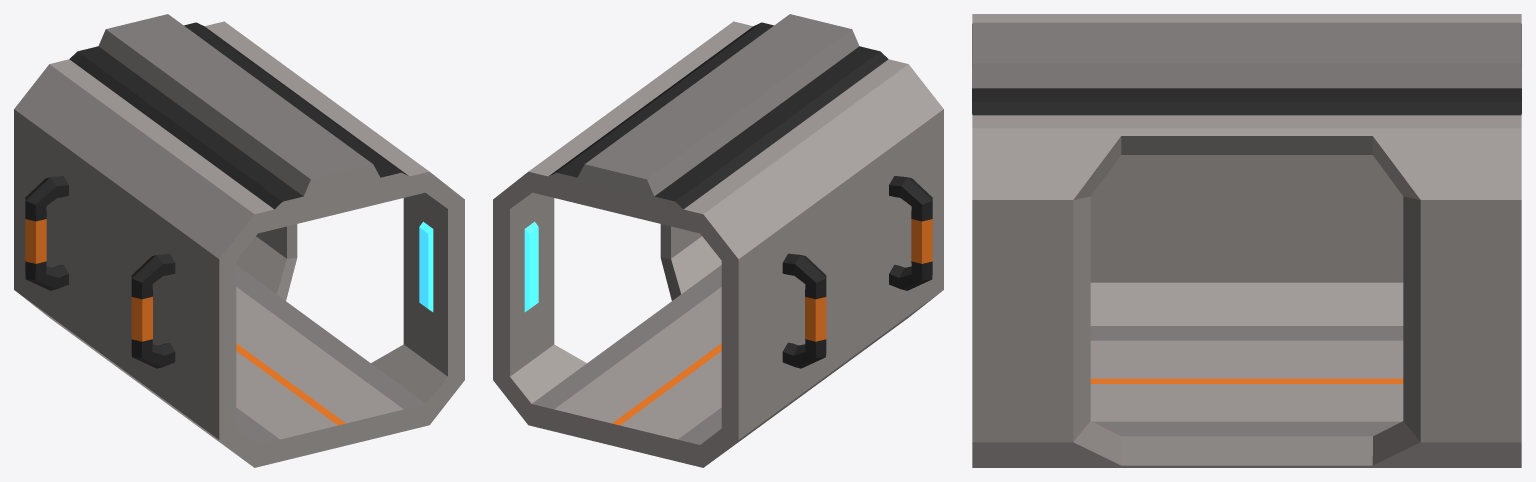
Rendered from scifi_scifi-planet-base-hall-one-middle.fbx.
3 renders of one model, left to right at view 1: azimuth 30°, elevation 25°; view 2: azimuth 150°, elevation 25°; view 3: azimuth 270°, elevation 25°, orthographic. The views are drawn at different scales.
Parts seen in each view (by area): view 1: scifi_scifi_planet_base_hall_one_middle; view 2: scifi_scifi_planet_base_hall_one_middle; view 3: scifi_scifi_planet_base_hall_one_middle.
Boxes of the visible parts, x1,y1,x2,y2 form: scifi_scifi_planet_base_hall_one_middle: (14, 14, 464, 467); scifi_scifi_planet_base_hall_one_middle: (493, 14, 943, 467); scifi_scifi_planet_base_hall_one_middle: (972, 14, 1521, 467).
Size of the model in its own units: 160 by 148 by 200.
